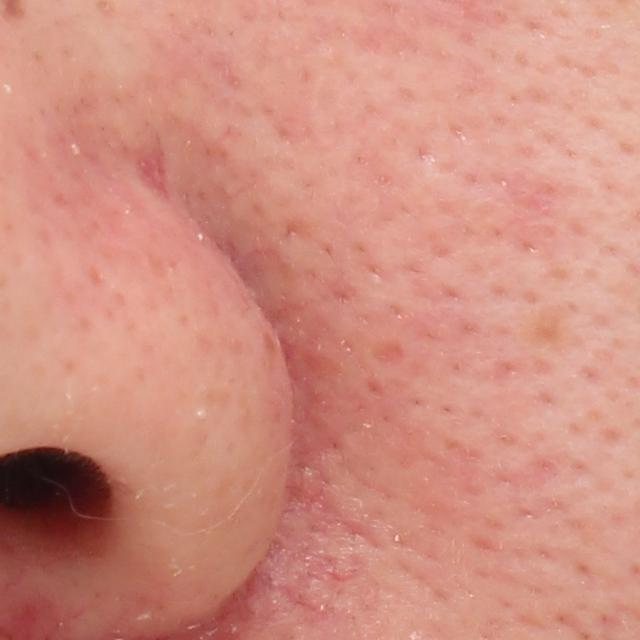atrophic_scar: (520, 300, 582, 363)
